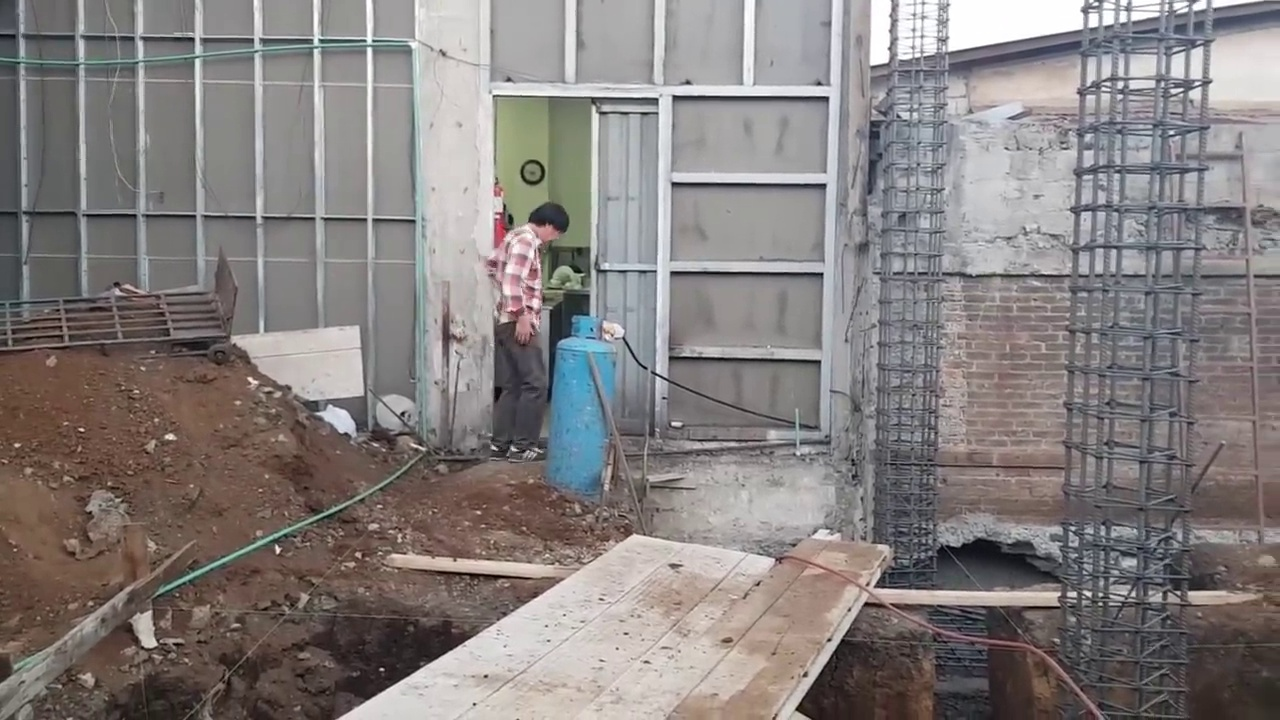helmet-off: (529, 202, 569, 244)
person: (486, 203, 568, 464)
